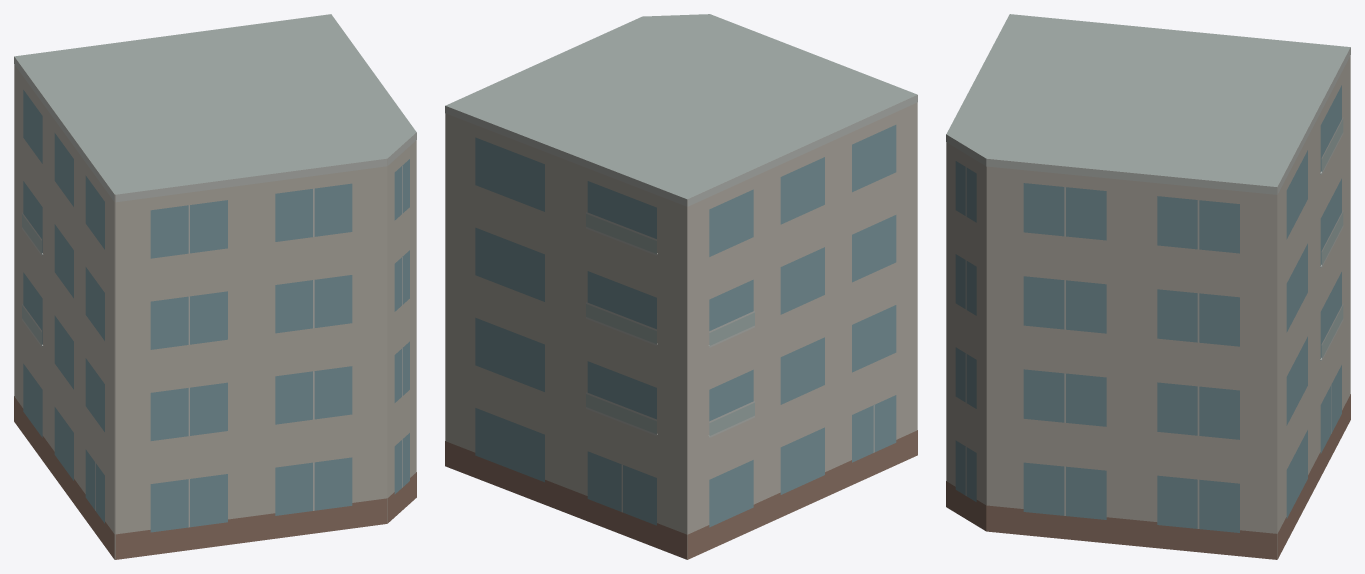
File: survey-upis-33023787.glb
3 renders of one model, left to right at view 1: azimuth 30°, elevation 25°; view 2: azimuth 150°, elevation 25°; view 3: azimuth 270°, elevation 25°, orthographic. The views are drawn at different scales.
Visible parts, largest first — view 1: survey-upis-33023787.tmp; view 2: survey-upis-33023787.tmp; view 3: survey-upis-33023787.tmp.
Part boxes in pixels (x1,y1,x2,y2): survey-upis-33023787.tmp: (14, 14, 416, 559); survey-upis-33023787.tmp: (445, 14, 917, 559); survey-upis-33023787.tmp: (946, 14, 1350, 559).
Size of the model in its own units: 11.67 by 11.7 by 11.52.
